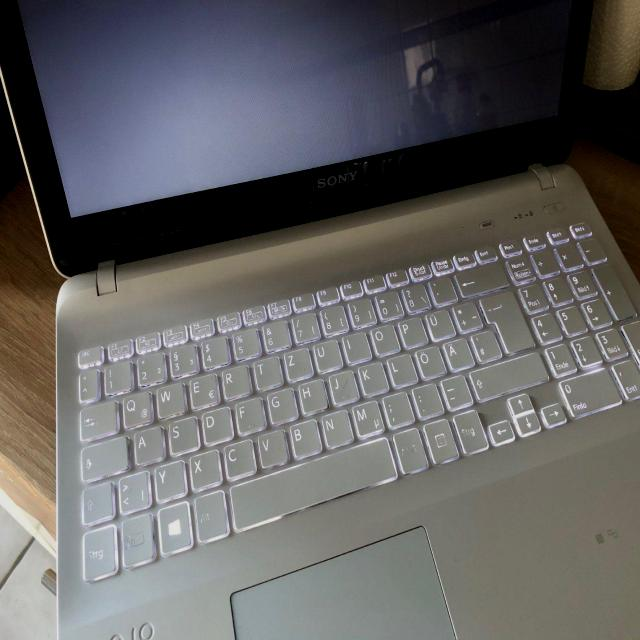0: (373, 287, 403, 319)
1: (101, 359, 131, 393)
2: (135, 350, 165, 384)
3: (168, 342, 197, 376)
4: (200, 334, 228, 367)
5: (230, 326, 259, 358)
6: (260, 318, 290, 350)
7: (291, 310, 319, 342)
8: (318, 302, 348, 334)
9: (346, 294, 375, 326)
a: (132, 423, 162, 463)
accent: (427, 272, 457, 304)
ae: (441, 335, 474, 369)
alt-left: (192, 488, 226, 542)
altgr-right: (391, 424, 427, 472)
b: (287, 415, 320, 457)
c: (222, 436, 254, 478)
caret: (77, 367, 97, 399)
comma: (381, 388, 413, 426)
d: (199, 403, 231, 443)
del: (452, 258, 508, 296)
e: (187, 370, 218, 408)
enter: (477, 289, 533, 351)
f: (234, 394, 264, 433)
g: (265, 385, 296, 423)
h: (296, 376, 326, 412)
hash: (468, 327, 501, 361)
i: (340, 328, 370, 362)
j: (326, 367, 358, 403)
k: (356, 358, 388, 394)
keyboard: (70, 204, 640, 590)
l: (386, 351, 416, 386)
less: (116, 467, 149, 512)
m: (350, 397, 382, 435)
minus: (439, 372, 471, 408)
n: (319, 406, 351, 446)
o: (368, 321, 398, 354)
oe: (413, 344, 445, 378)
p: (396, 314, 427, 346)
plus: (450, 298, 482, 331)
point: (410, 380, 442, 416)
q: (120, 389, 151, 427)
r: (219, 362, 249, 398)
s: (166, 413, 197, 454)
shift-left: (80, 479, 112, 523)
shift-lock: (79, 431, 127, 479)
shift-right: (466, 349, 548, 399)
space: (224, 432, 395, 530)
ss: (400, 281, 430, 311)
strg-left: (80, 522, 115, 580)
strg-right: (451, 407, 487, 452)
t: (251, 353, 281, 388)
tab: (78, 397, 116, 439)
u: (311, 337, 341, 372)
ue: (423, 306, 455, 340)
v: (255, 426, 287, 466)
w: (154, 379, 184, 417)
x: (187, 447, 219, 489)
y: (152, 457, 184, 499)
z: (282, 345, 311, 380)
